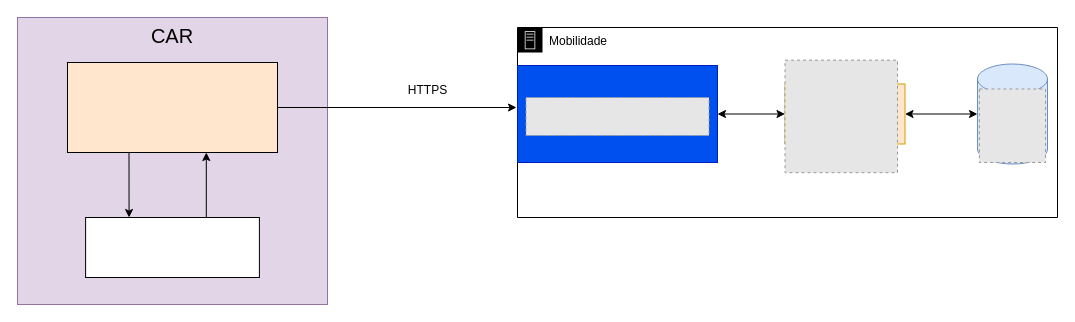
Some shapes in this 1075 by 322 pixel diagram are drawn without their labels. Grey dashed boxes stand in for pictures. Here are the shapes that lost their labels. From the top down, the centre of each, then its label:
(172,107): FreematicsOBD ONE+
(172,247): CAN BUS
